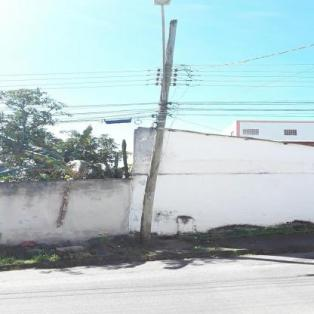Poste: (137, 17, 182, 242)
